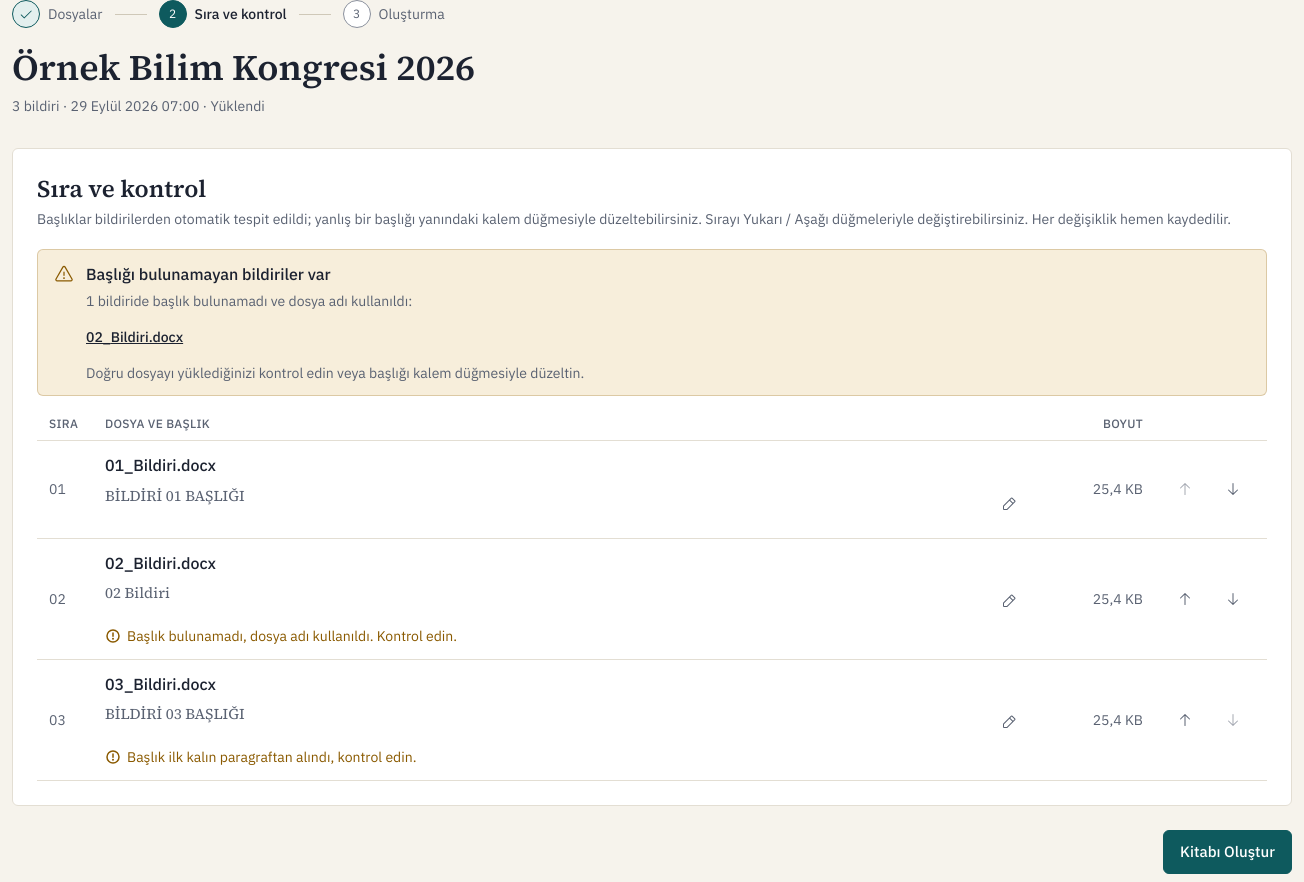
BookPage — order step › sums up the papers whose title fell back to the file name at the top of the paper list
This screenshot has width=1304, height=882.
Check: the element that starts with "Başlığı bulunamayan bildiriler var" shows "1 bildiride başlık bulunamadı ve dosya adı kullanıldı:", box [86,262,584,383]
Check: the element that starts with "Başlığı bulunamayan bildiriler var" shows "Doğru dosyayı yüklediğinizi kontrol edin veya başlığı kalem düğmesiyle düzeltin.", box [86,364,584,382]
Click the link "02_Bildiri.docx" at point(135, 337), box [86,328,183,346]
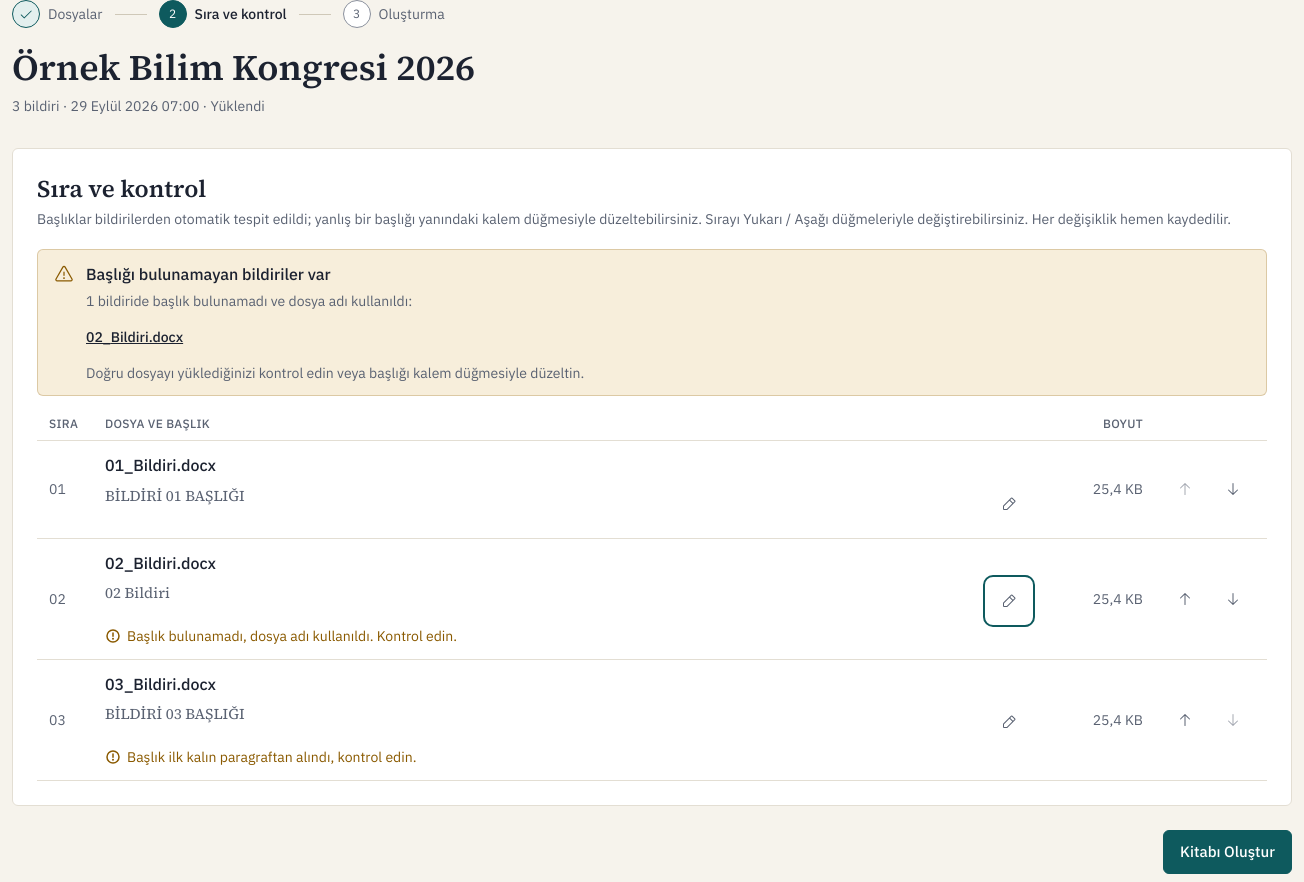
Click the button named "02_Bildiri.docx başlığını düzenle" at point(1009, 601), box [987,579,1031,623]
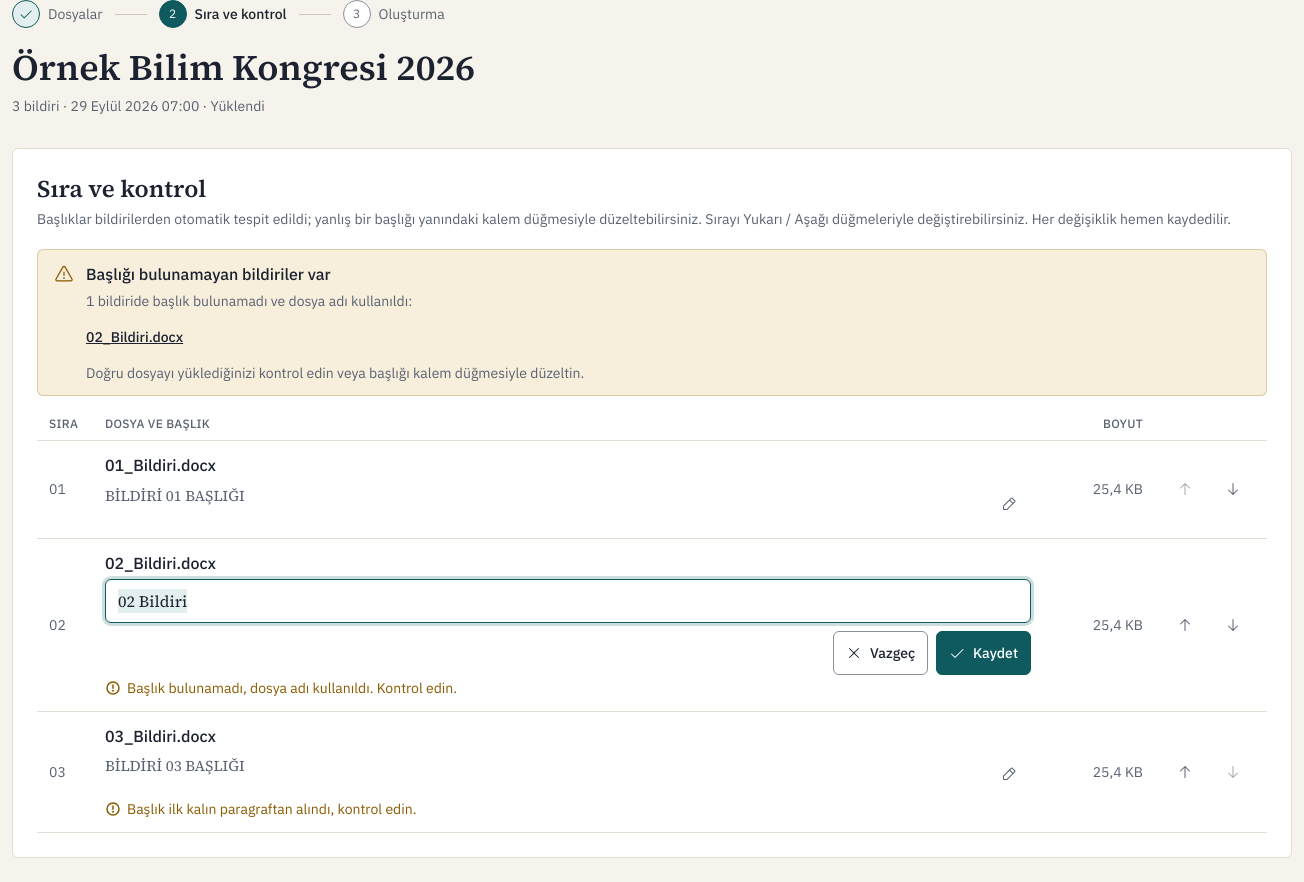
Clear the field named "02_Bildiri.docx başlığı" at point(568, 601), box [105,579,1031,623]
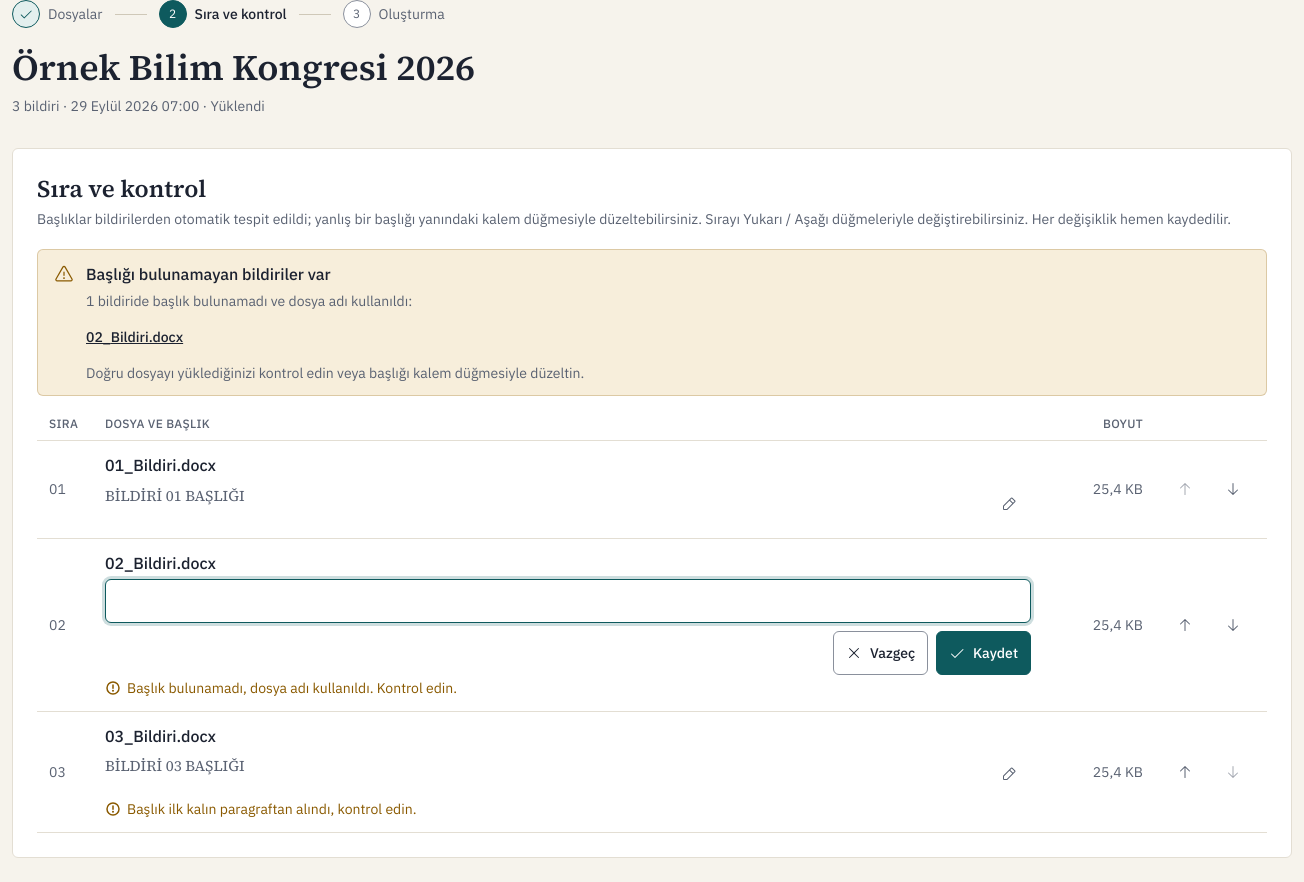
Type keys "DOĞRU BAŞLIK{Enter}"
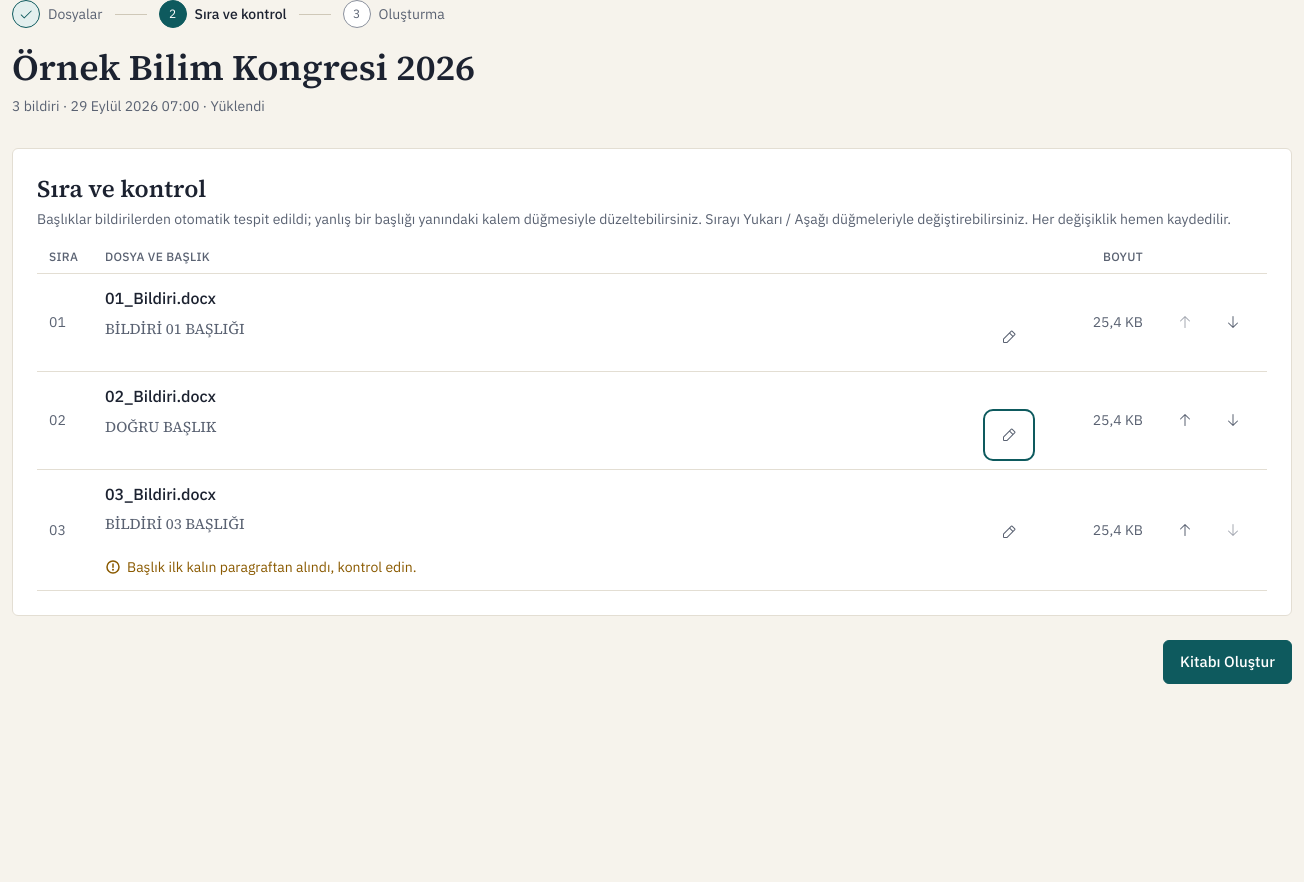
Check: the text "DOĞRU BAŞLIK" is shown, box [105,416,216,437]
Check: the text "Başlığı bulunamayan bildiriler var" is gone
